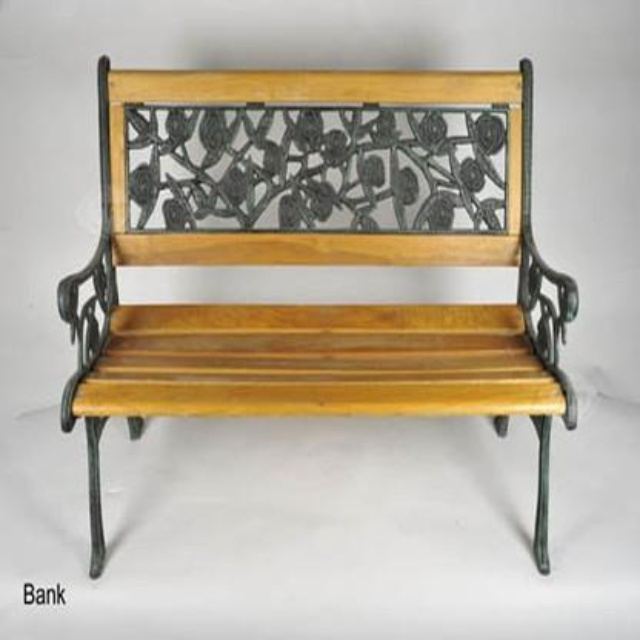obstacle: (42, 46, 583, 583)
